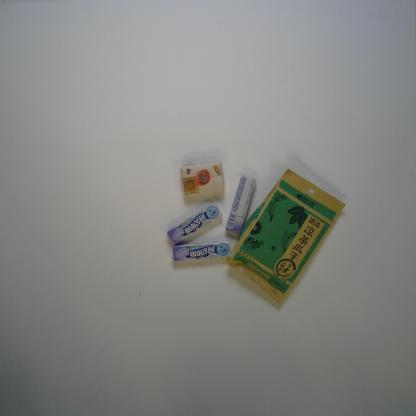Candy: (166, 201, 223, 246), (224, 173, 257, 234), (170, 241, 231, 262)
Dried Food: (225, 167, 347, 306)
Tissue: (180, 159, 225, 196)
